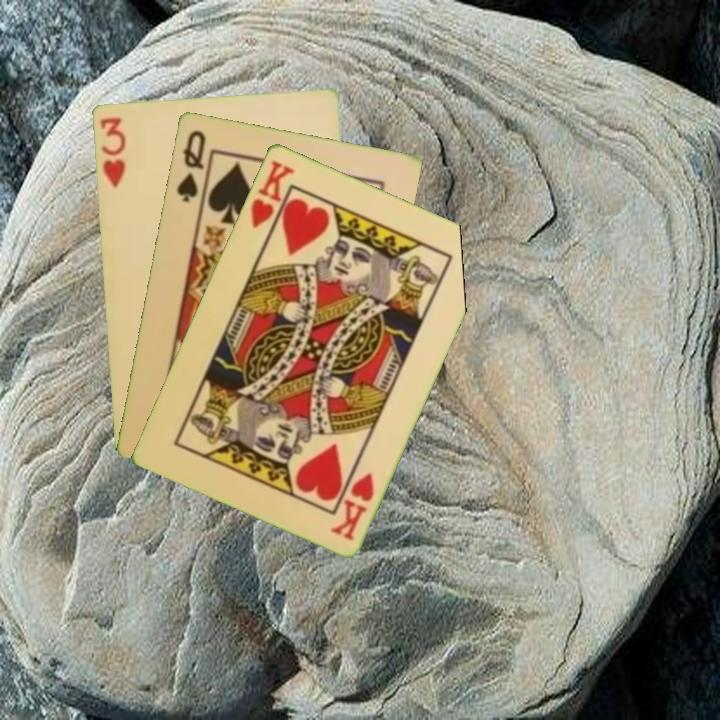3h: (96, 112, 128, 190)
Kh: (246, 156, 297, 240), (326, 468, 377, 543)
Qs: (173, 126, 208, 205)
